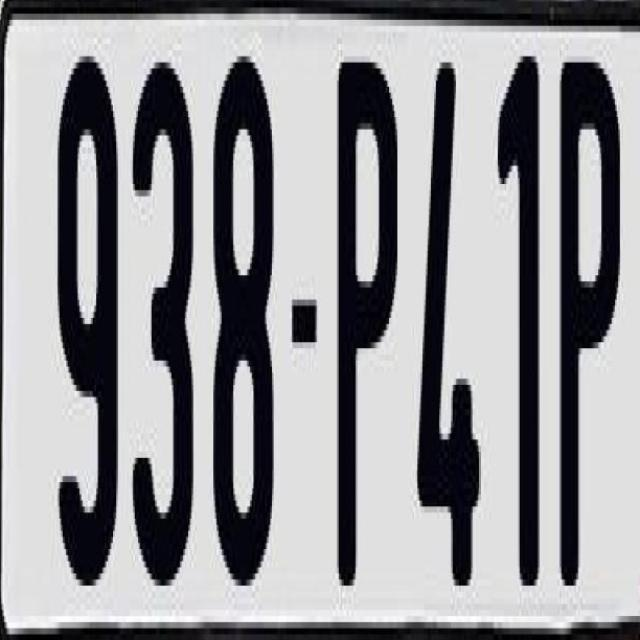license-plate: (6, 10, 640, 624)
